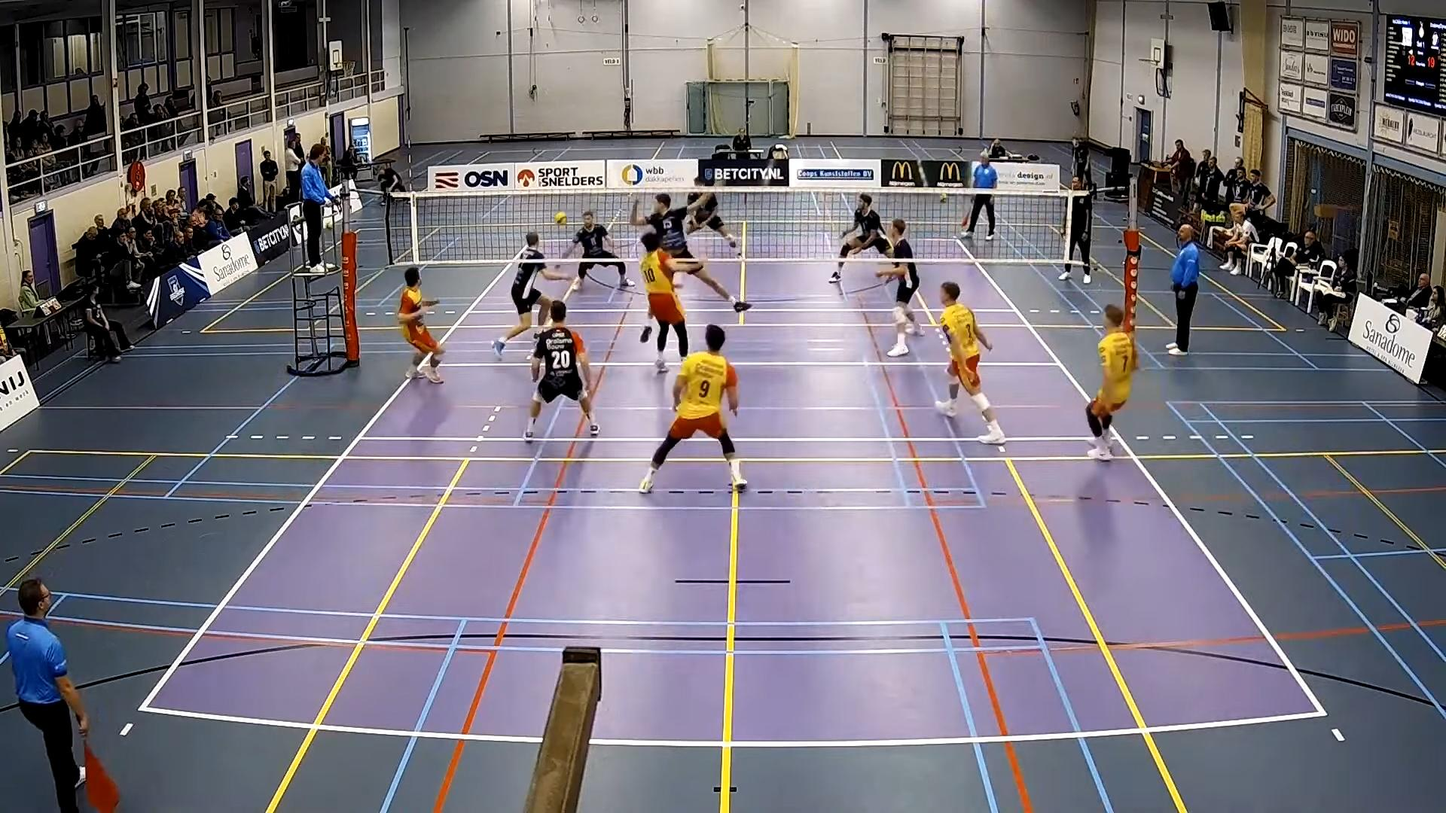Dig: (554, 201, 636, 296)
Player: (639, 324, 746, 492), (630, 193, 751, 312), (935, 281, 1005, 444), (523, 300, 599, 442), (492, 232, 572, 358), (639, 231, 695, 373), (1087, 304, 1137, 460), (876, 218, 922, 357), (397, 266, 444, 382), (829, 193, 889, 282), (685, 193, 736, 251)
ball: (555, 210, 564, 220)
